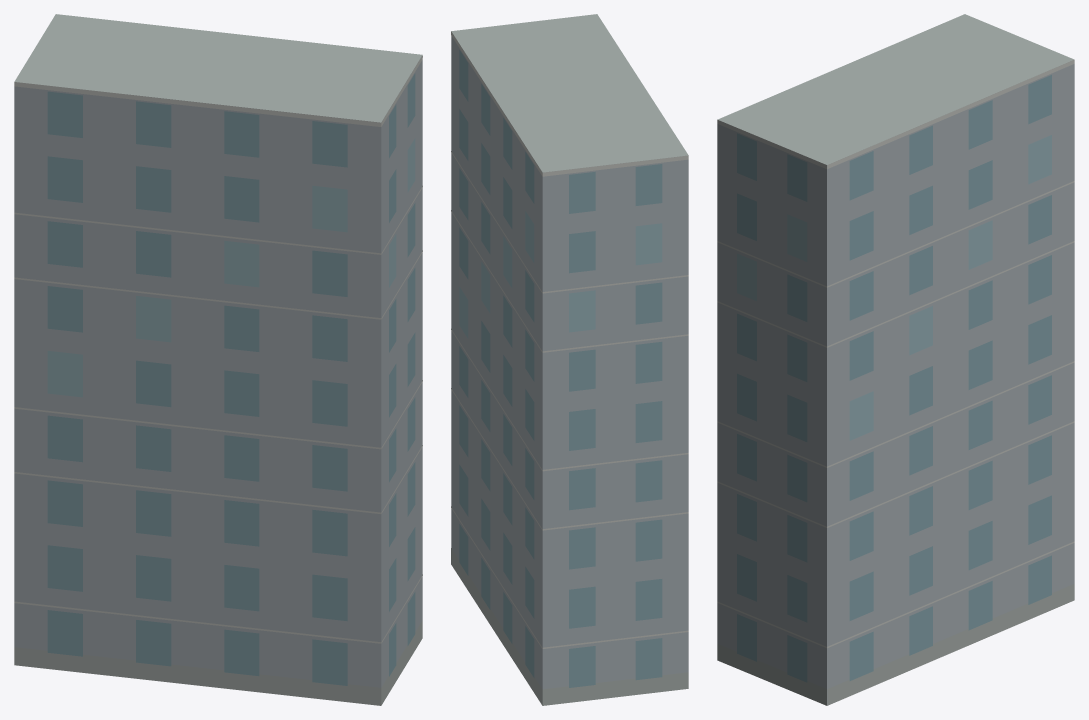
File: survey-upis-32747436.glb
3 views of the same model, side by side, from view 1: azimuth 30°, elevation 25°; view 2: azimuth 150°, elevation 25°; view 3: azimuth 270°, elevation 25° (orthographic). The views are drawn at different scales.
Parts seen in each view (by area): view 1: survey-upis-32747436.tmp; view 2: survey-upis-32747436.tmp; view 3: survey-upis-32747436.tmp.
Part boxes in pixels (left/top/right/bottom): survey-upis-32747436.tmp: left=14, top=14, right=422, bottom=705; survey-upis-32747436.tmp: left=451, top=14, right=688, bottom=705; survey-upis-32747436.tmp: left=717, top=14, right=1074, bottom=705.
Bounding box in the file's own units: 18.78 × 31.3 × 18.75.
